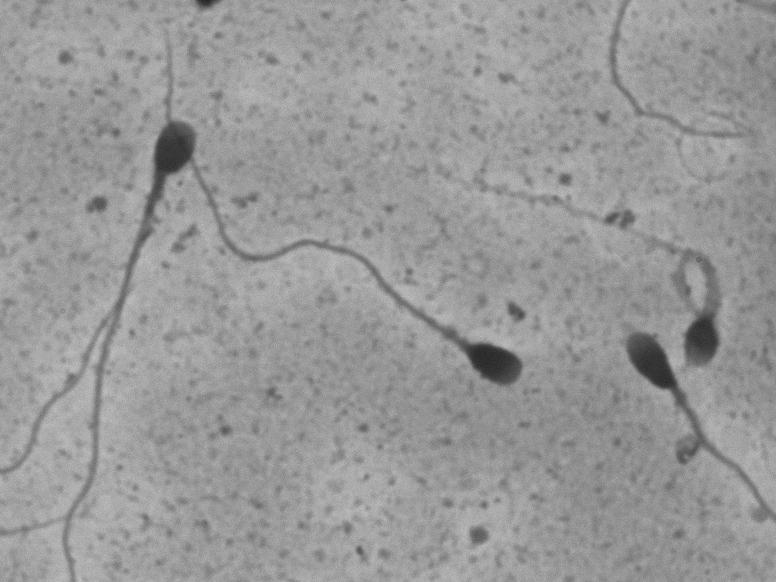Abnormal: (585, 321, 679, 517), (671, 227, 737, 380)
Normal: (135, 17, 534, 404)
